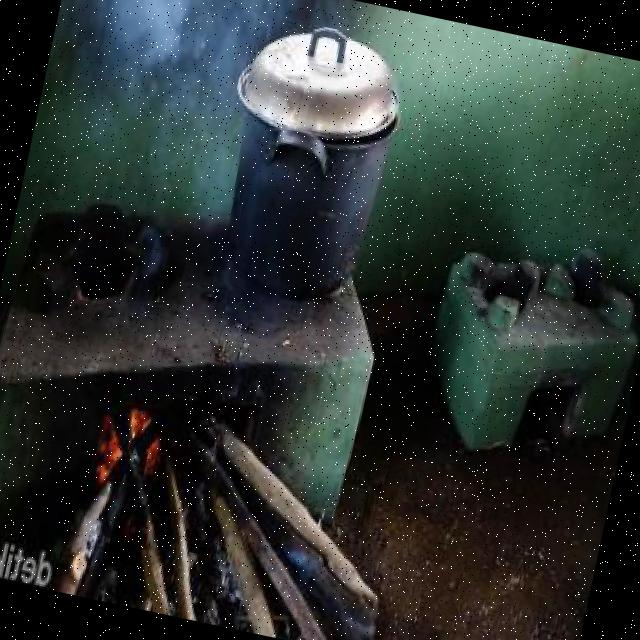fire: (85, 385, 178, 507)
